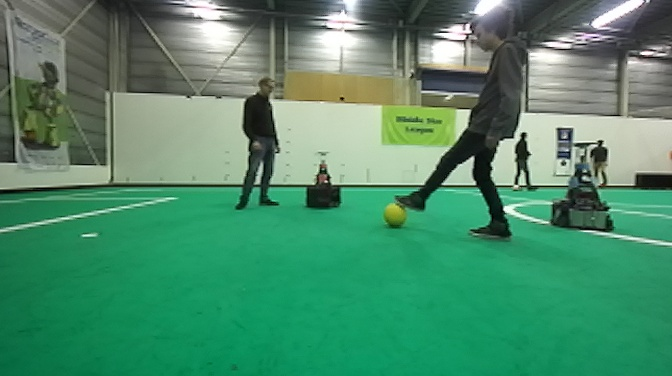ball: (384, 203, 408, 229), (510, 183, 522, 196)
human: (231, 74, 282, 212), (511, 130, 540, 193), (589, 137, 611, 191)
robot: (547, 139, 615, 233), (302, 148, 343, 212)
